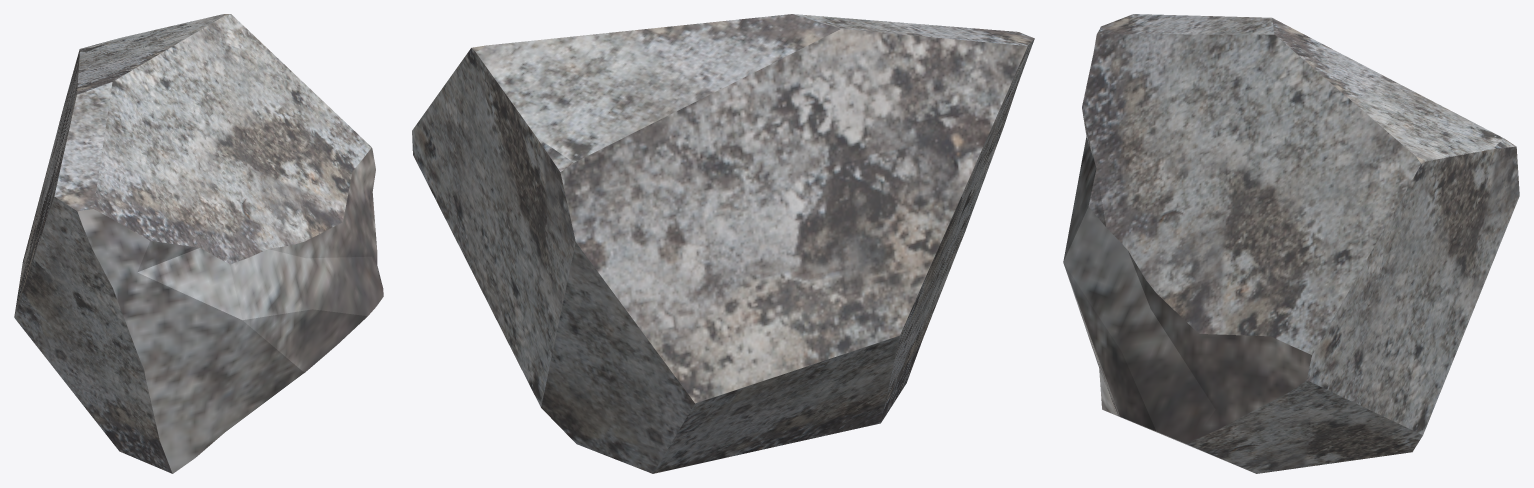
The model's file is Asteroid_Large_001_02_007_03_021.fbx.
3 views of the same model, side by side, from view 1: azimuth 30°, elevation 25°; view 2: azimuth 150°, elevation 25°; view 3: azimuth 270°, elevation 25° (orthographic). The views are drawn at different scales.
Parts seen in each view (by area): view 1: Asteroid_Large_001_02_007_03_021; view 2: Asteroid_Large_001_02_007_03_021; view 3: Asteroid_Large_001_02_007_03_021.
Part boxes in pixels (x1=…): Asteroid_Large_001_02_007_03_021: x1=14, y1=14, x2=383, y2=473; Asteroid_Large_001_02_007_03_021: x1=412, y1=14, x2=1034, y2=473; Asteroid_Large_001_02_007_03_021: x1=1063, y1=14, x2=1519, y2=473.
Bounding box in the file's own units: 13.17 × 10.6 × 11.43.
